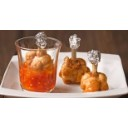chicken_lollipop: (84, 39, 110, 90), (63, 34, 84, 83)
